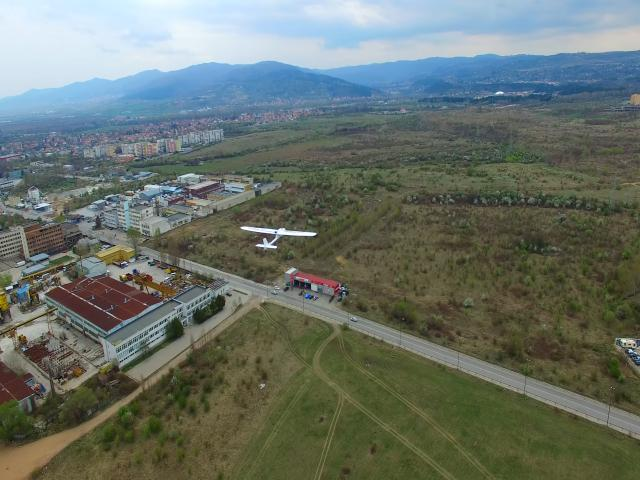plane: (241, 223, 319, 250)
